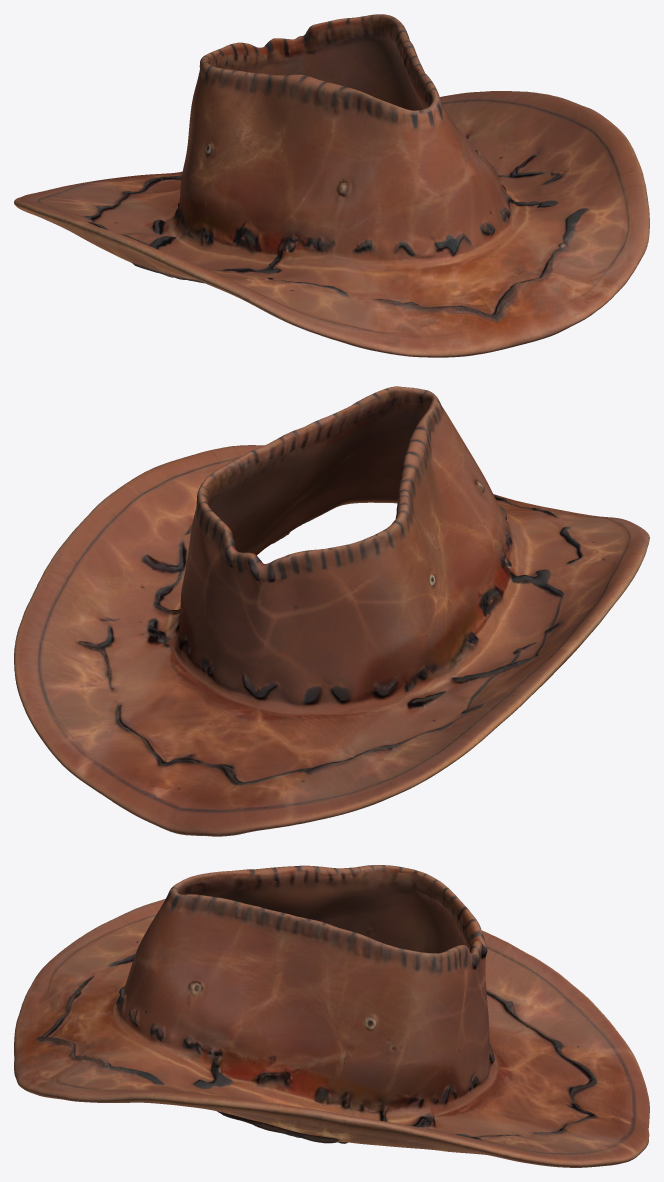
File: Sombrero.glb
The picture shows the model from 3 angles, top to bottom: view 1: azimuth 30°, elevation 25°; view 2: azimuth 150°, elevation 25°; view 3: azimuth 270°, elevation 25°; orthographic projection. The views are drawn at different scales.
Bounding box in the file's own units: 1.71 × 0.8732 × 2.
1 material, 1 textured.
